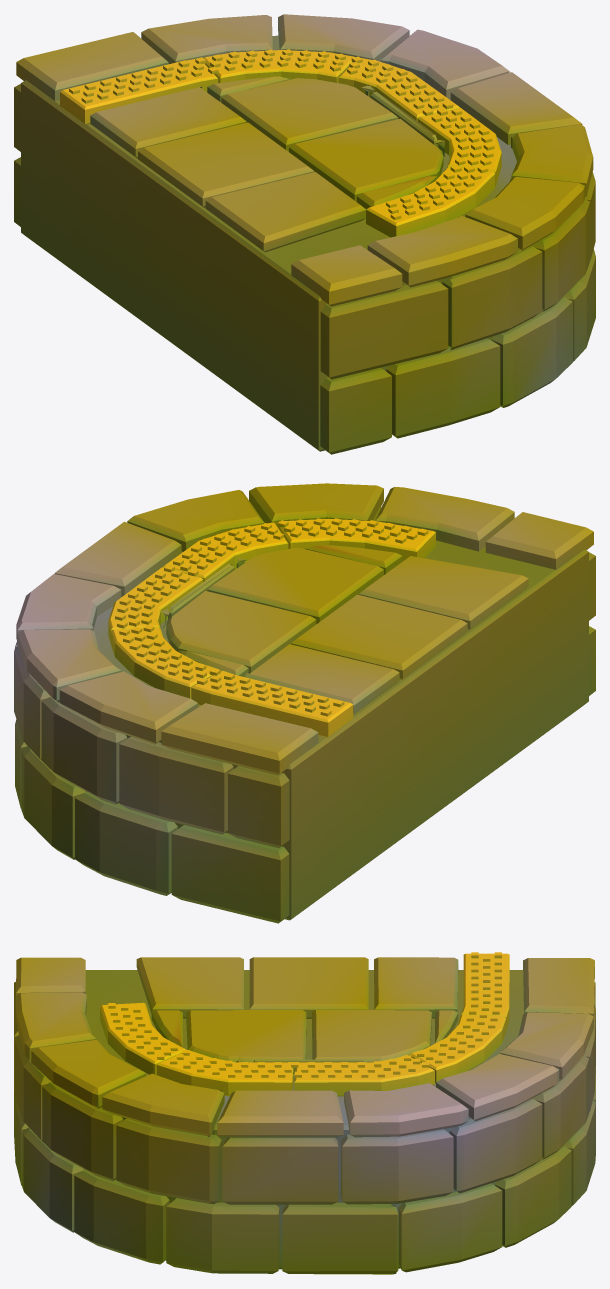
The model's file is Platform_EndCap_End.fbx.
3 renders of one model, top to bottom at view 1: azimuth 30°, elevation 25°; view 2: azimuth 150°, elevation 25°; view 3: azimuth 270°, elevation 25°, orthographic. The views are drawn at different scales.
Parts seen in each view (by area): view 1: Platform_EndCap_End; view 2: Platform_EndCap_End; view 3: Platform_EndCap_End.
Part boxes in pixels (<box>): Platform_EndCap_End: <box>14,14,595,454</box>; Platform_EndCap_End: <box>14,483,595,923</box>; Platform_EndCap_End: <box>14,952,595,1274</box>.
Size of the model in its own units: 2.34 by 1.08 by 3.49.
